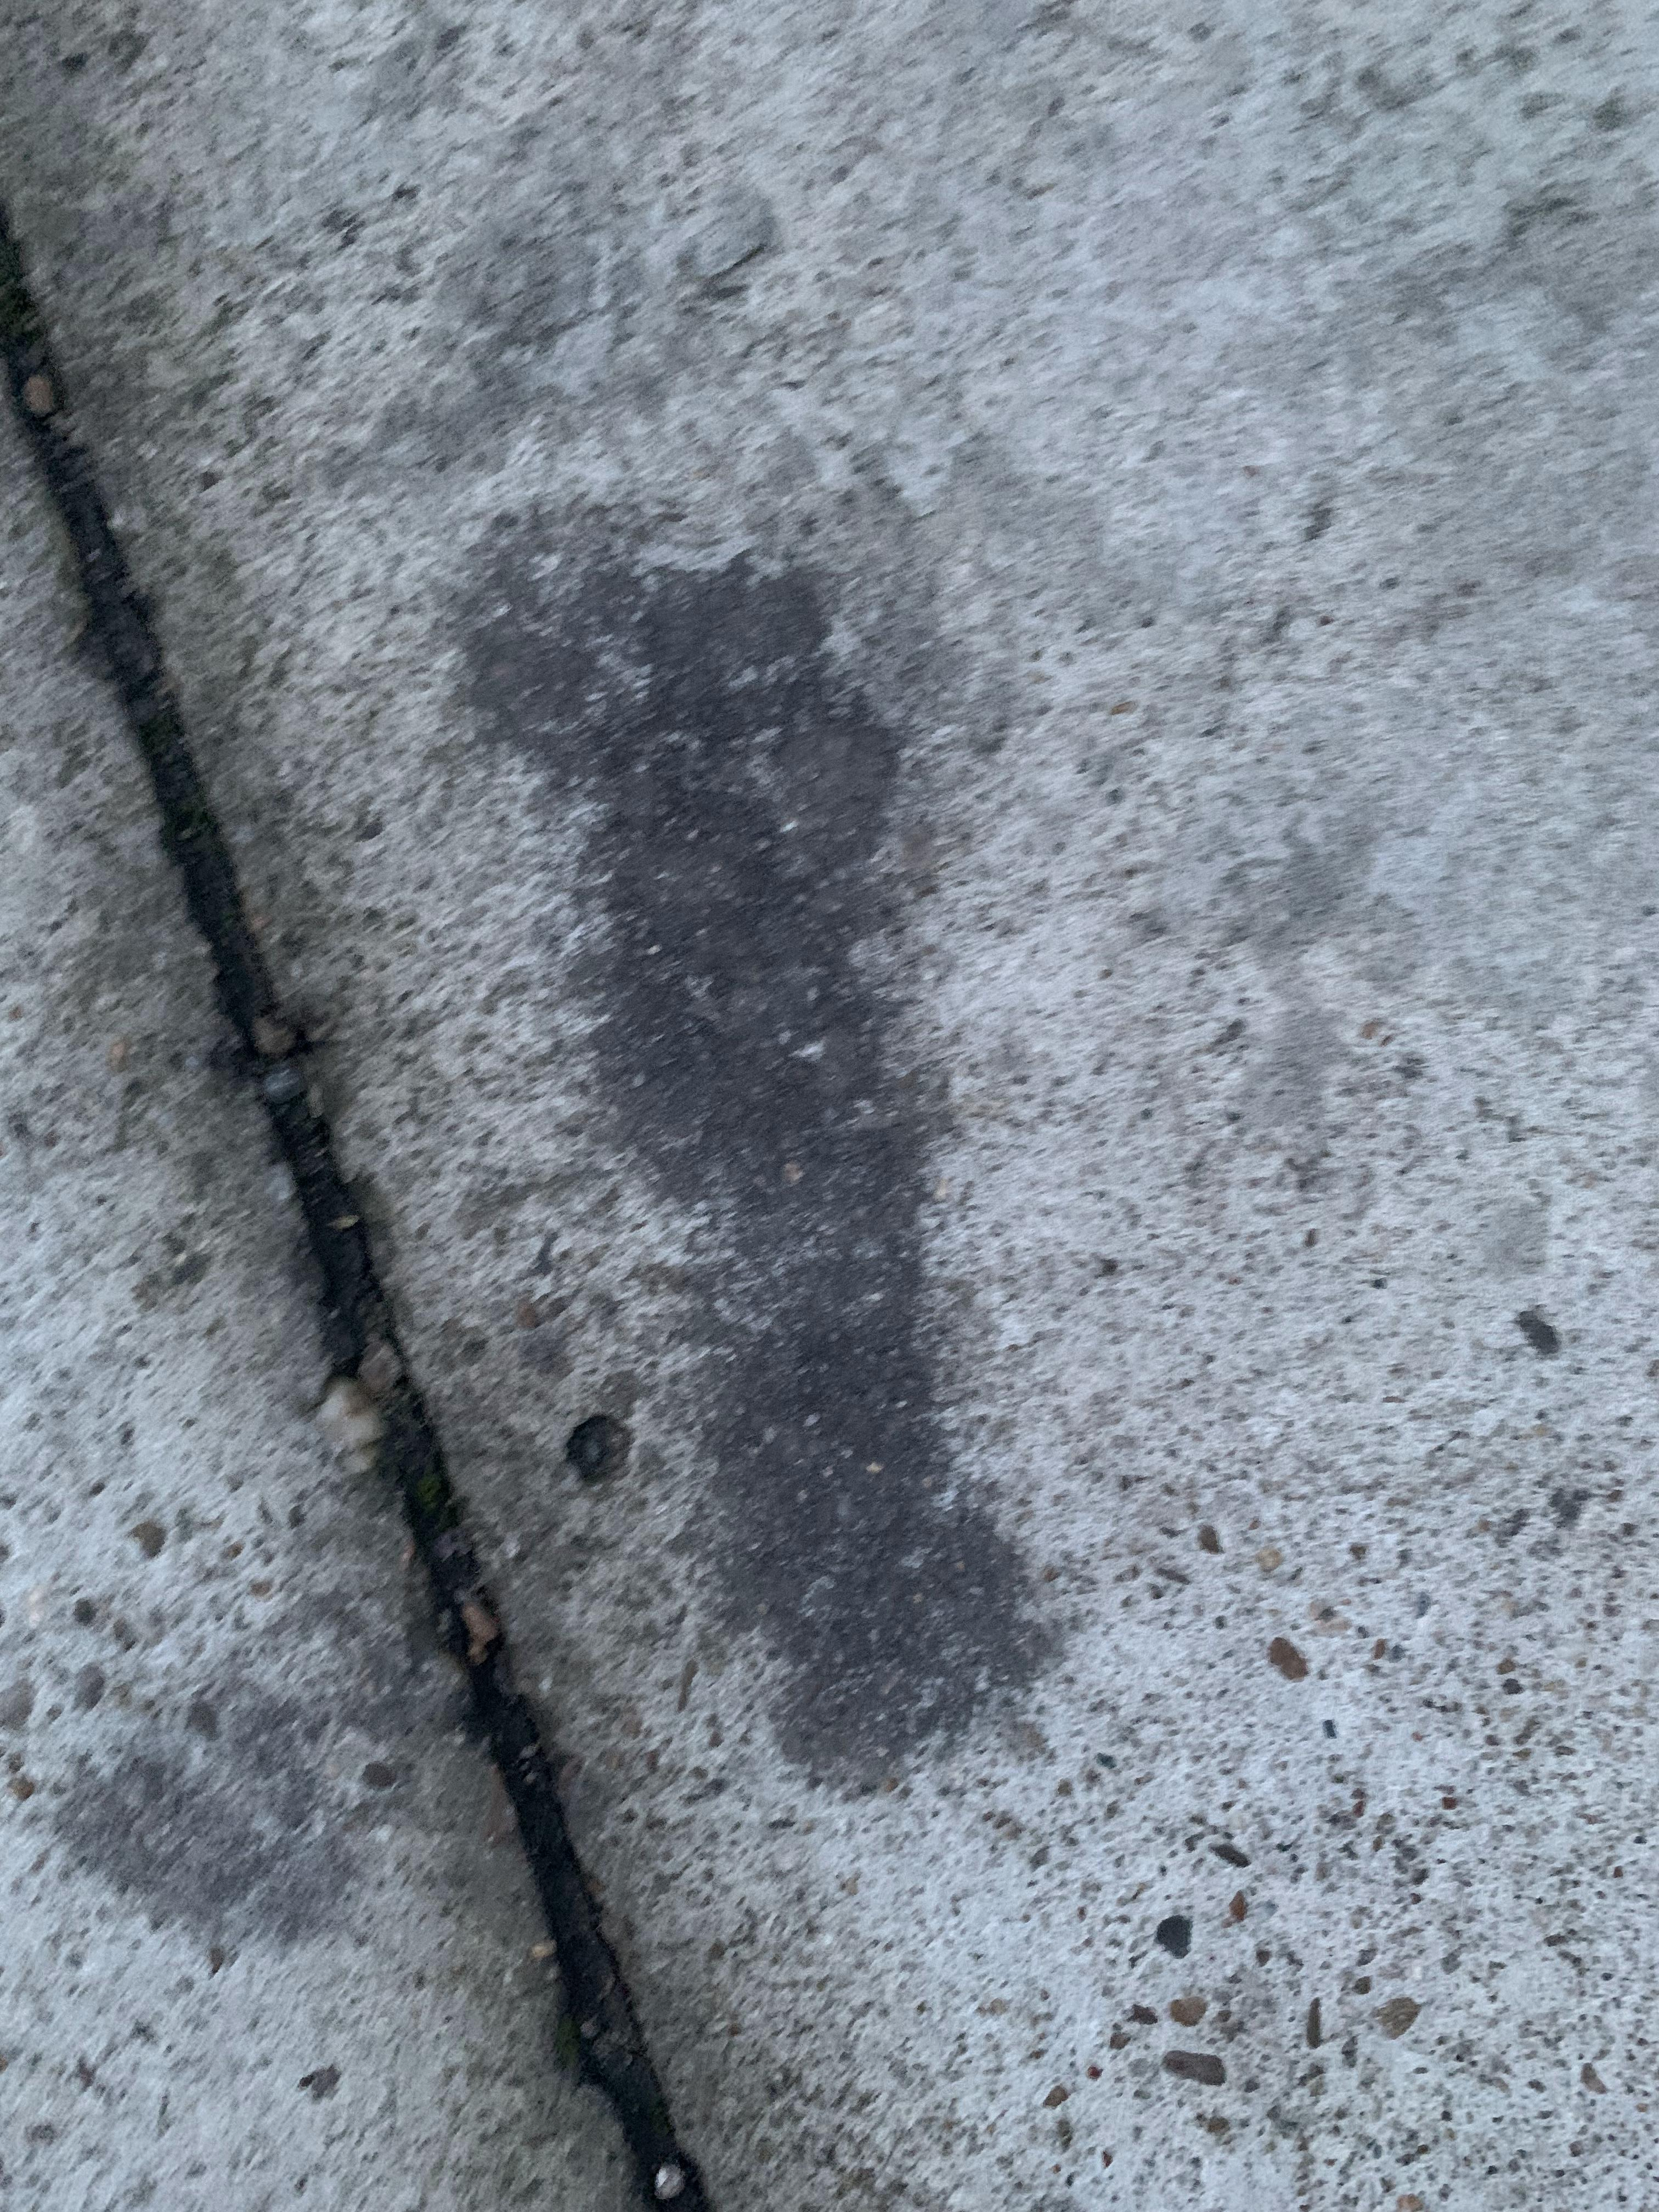grey spot: (462, 505, 1058, 1797)
